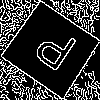P: (26, 24, 80, 81)
